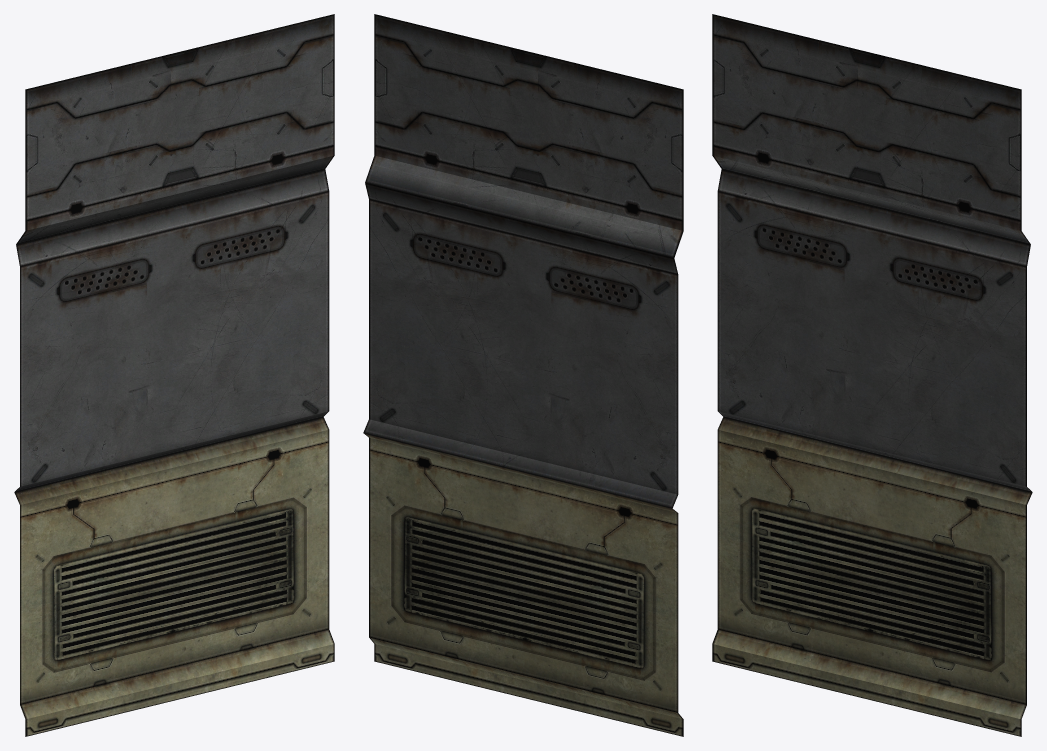
The model's file is living_area_flat02_vent_short.dae.
3 renders of one model, left to right at view 1: azimuth 30°, elevation 25°; view 2: azimuth 150°, elevation 25°; view 3: azimuth 330°, elevation 25°, orthographic.
Visible parts, largest first — view 1: pPlane4; view 2: pPlane4; view 3: pPlane4.
Boxes of the visible parts, x1=… form: pPlane4: x1=14, y1=14, x2=334, y2=736; pPlane4: x1=363, y1=14, x2=683, y2=736; pPlane4: x1=712, y1=14, x2=1032, y2=736.
Size of the model in its own units: 2 by 4 by 0.125.
